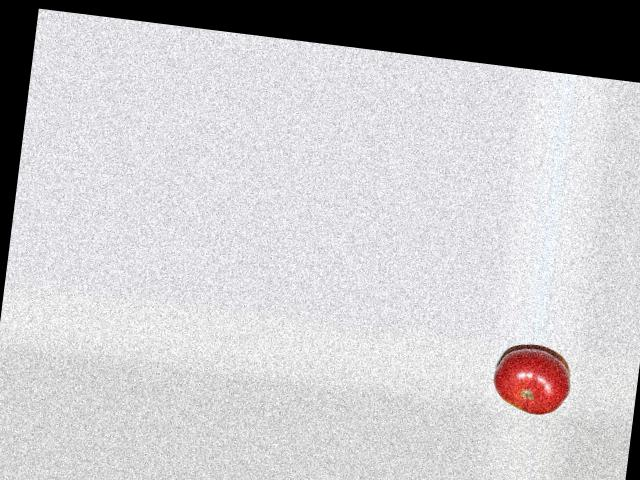tomato: (489, 345, 574, 418)
